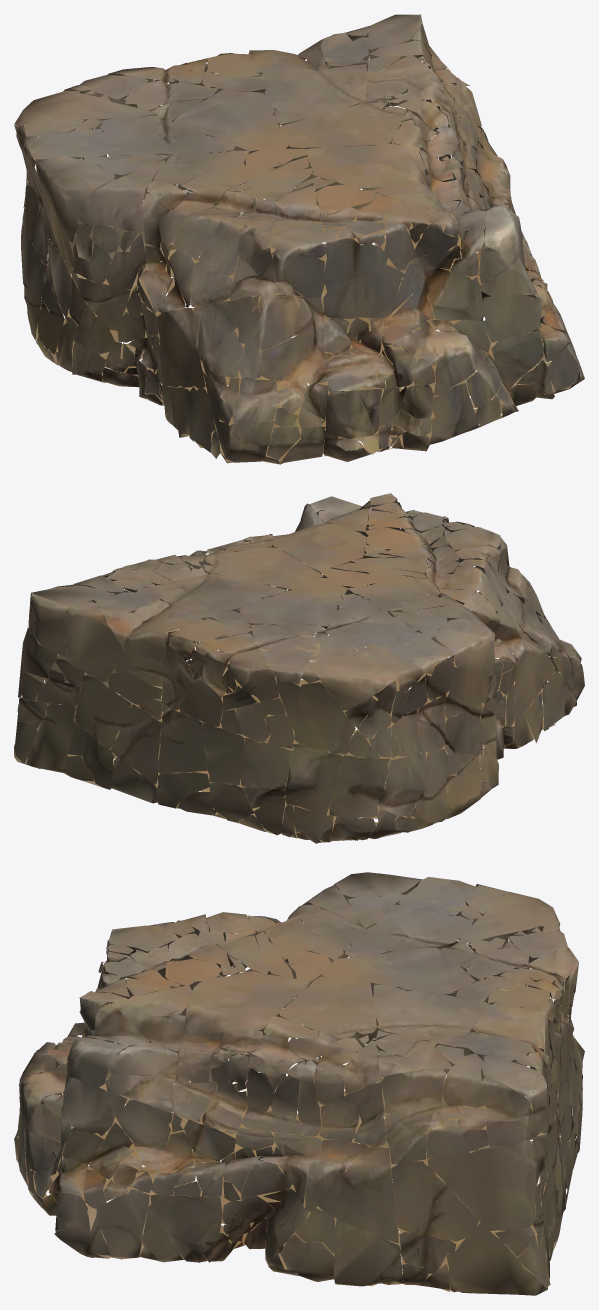
The model's file is formation-b.glb.
3 views of the same model, one above another, from view 1: azimuth 30°, elevation 25°; view 2: azimuth 150°, elevation 25°; view 3: azimuth 270°, elevation 25° (orthographic). The views are drawn at different scales.
Visible parts, largest first — view 1: Mesh_0; view 2: Mesh_0; view 3: Mesh_0.
Part boxes in pixels (<box>): Mesh_0: <box>14,14,584,464</box>; Mesh_0: <box>14,493,584,843</box>; Mesh_0: <box>14,872,584,1295</box>.
Size of the model in its own units: 3.86 by 1.58 by 4.02.
1 material, 1 textured.
